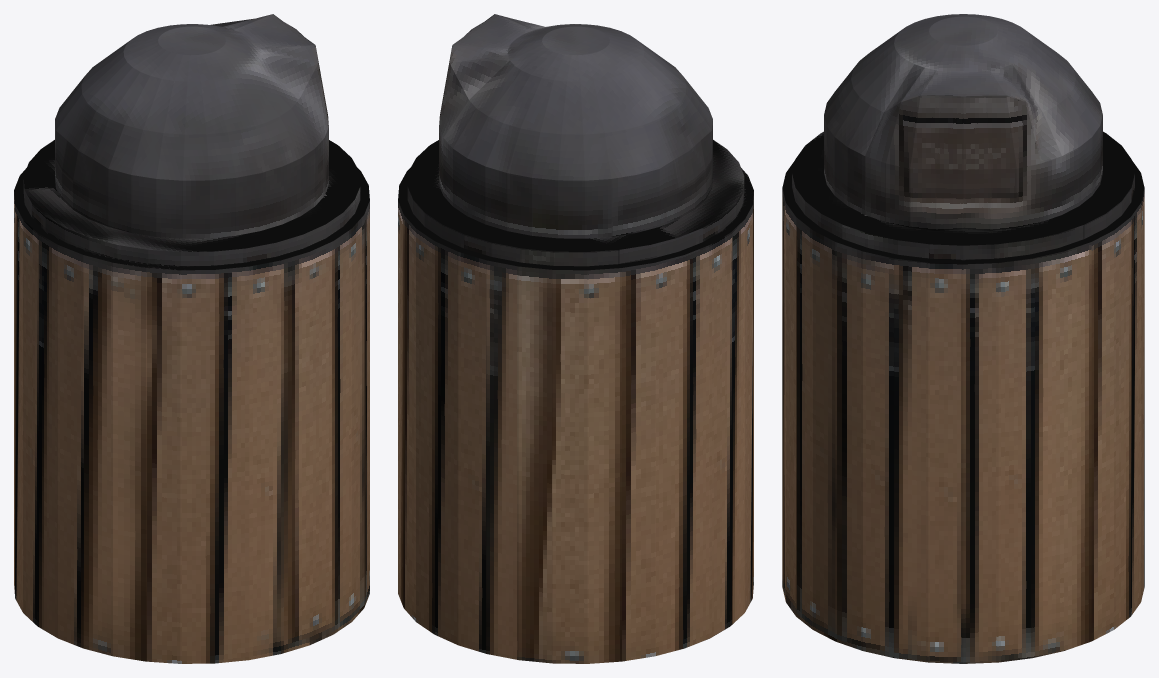
The model's file is Trash.glb.
3 views of the same model, side by side, from view 1: azimuth 30°, elevation 25°; view 2: azimuth 150°, elevation 25°; view 3: azimuth 270°, elevation 25° (orthographic).
Parts seen in each view (by area): view 1: Cylinder; view 2: Cylinder; view 3: Cylinder.
Part boxes in pixels (x1,y1,x2,y2): Cylinder: [14, 14, 369, 663]; Cylinder: [398, 14, 753, 663]; Cylinder: [782, 14, 1144, 663].
Bounding box in the file's own units: 2.78 × 4.71 × 2.78.
1 material, 1 textured.
